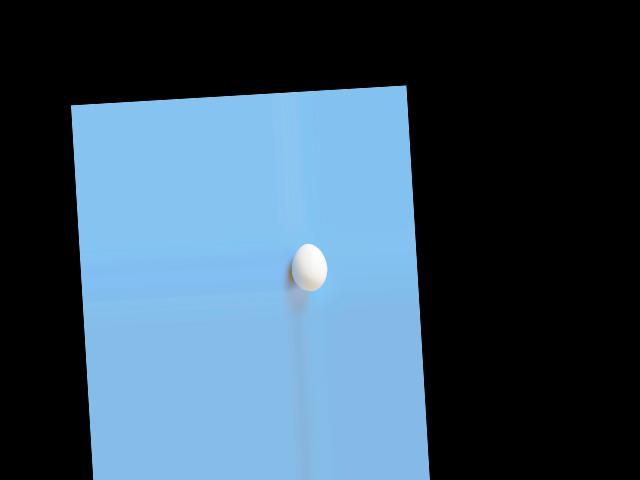egg: (289, 242, 328, 292)
